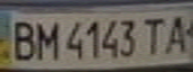1: (81, 16, 103, 60)
3: (115, 15, 142, 58)
4: (100, 16, 124, 60), (63, 16, 84, 61)
A: (163, 10, 193, 55)
B: (6, 17, 39, 62)
M: (30, 17, 60, 62)
T: (139, 14, 169, 56)
